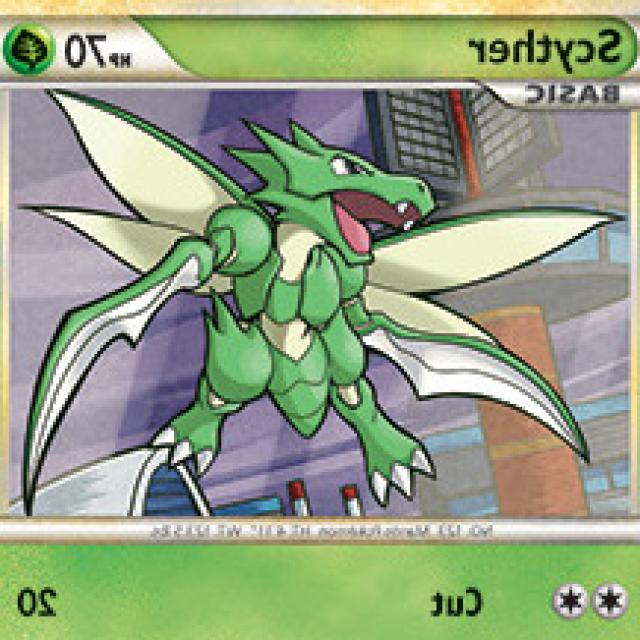Scyther: (100, 126, 488, 472)
